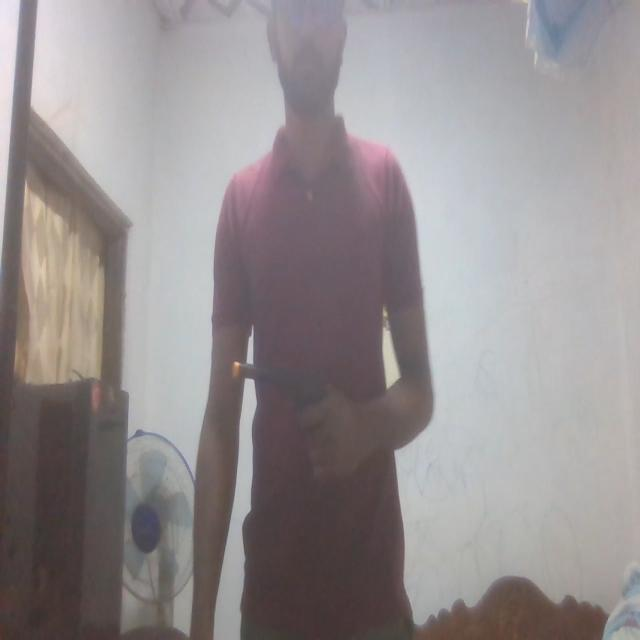Gun_Holder: (230, 352, 356, 476)
Person: (195, 0, 439, 640)
